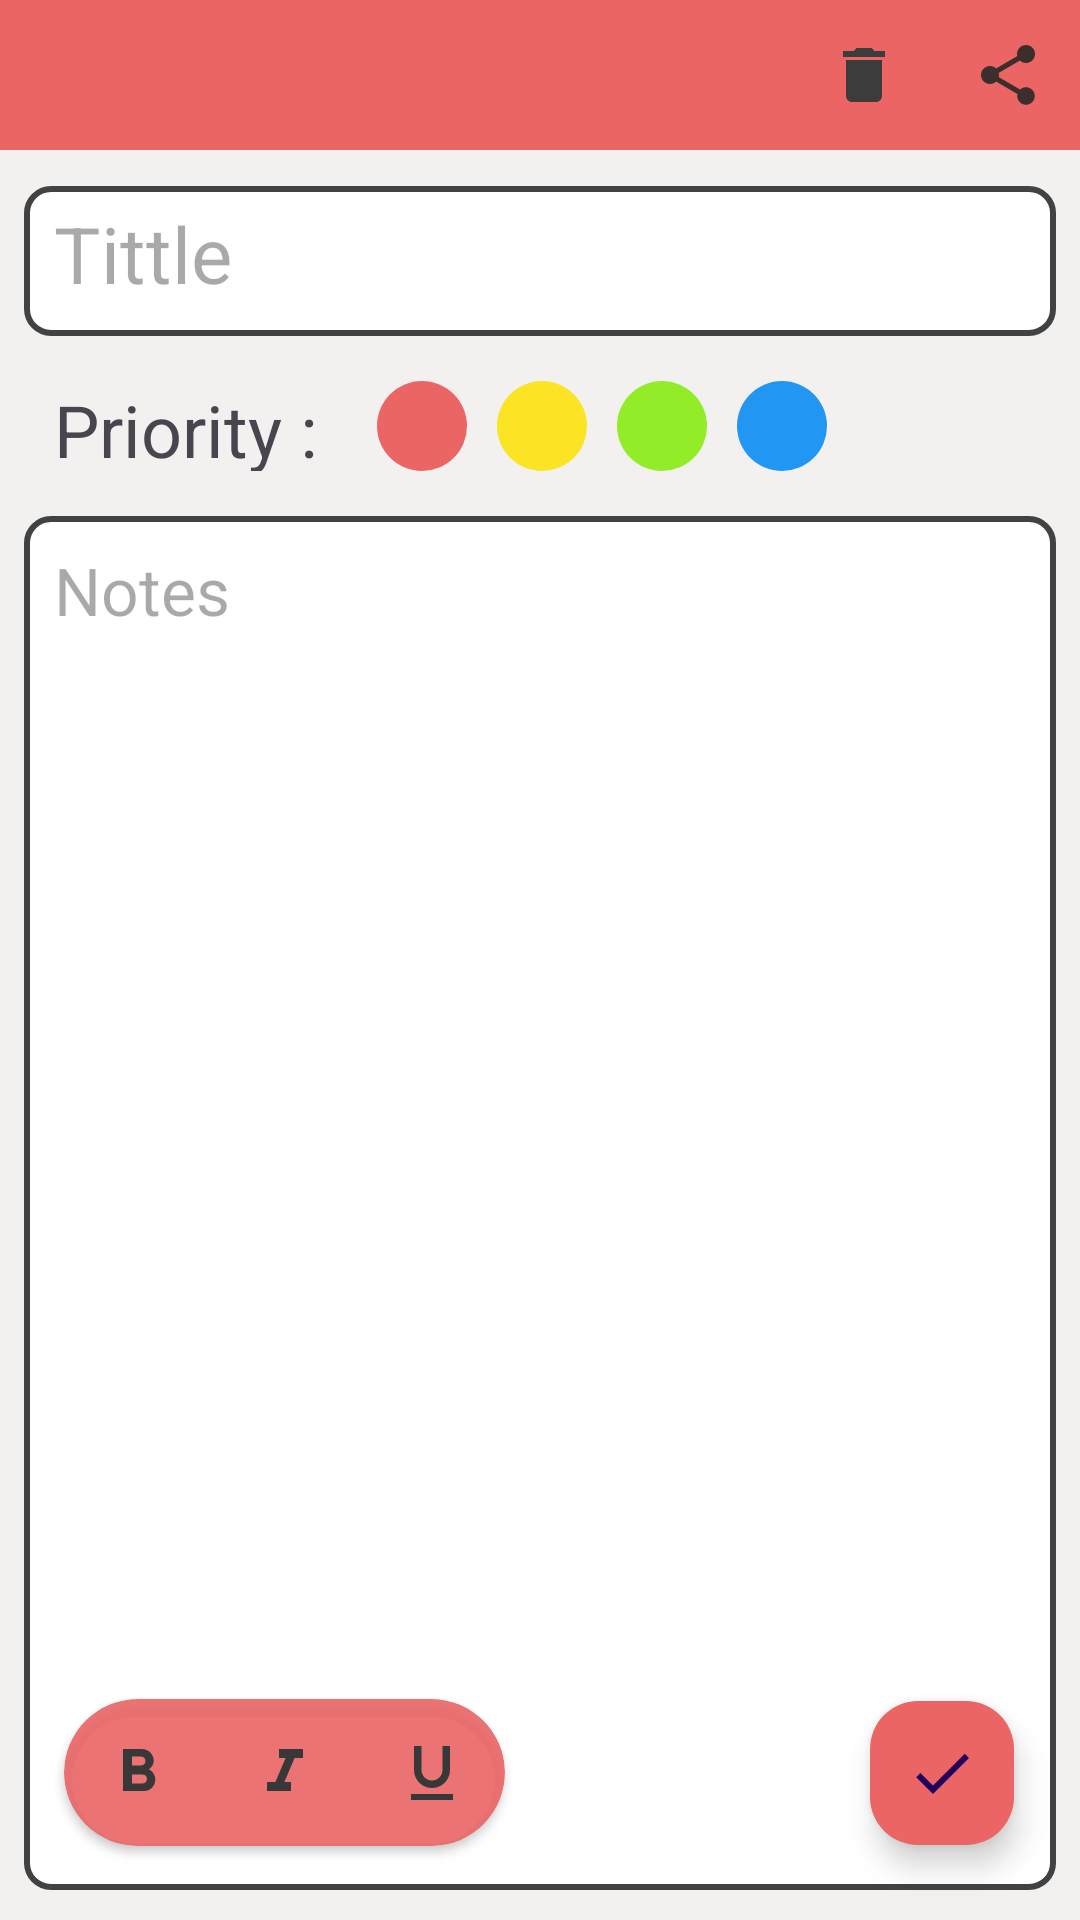

Named icons in this screenshot (1080x1920) and their bounding boxes, [x1, y1, x2, y2]:
done: [870, 1701, 1014, 1845]
italic: [267, 1749, 303, 1791]
underline: [411, 1705, 499, 1840]
